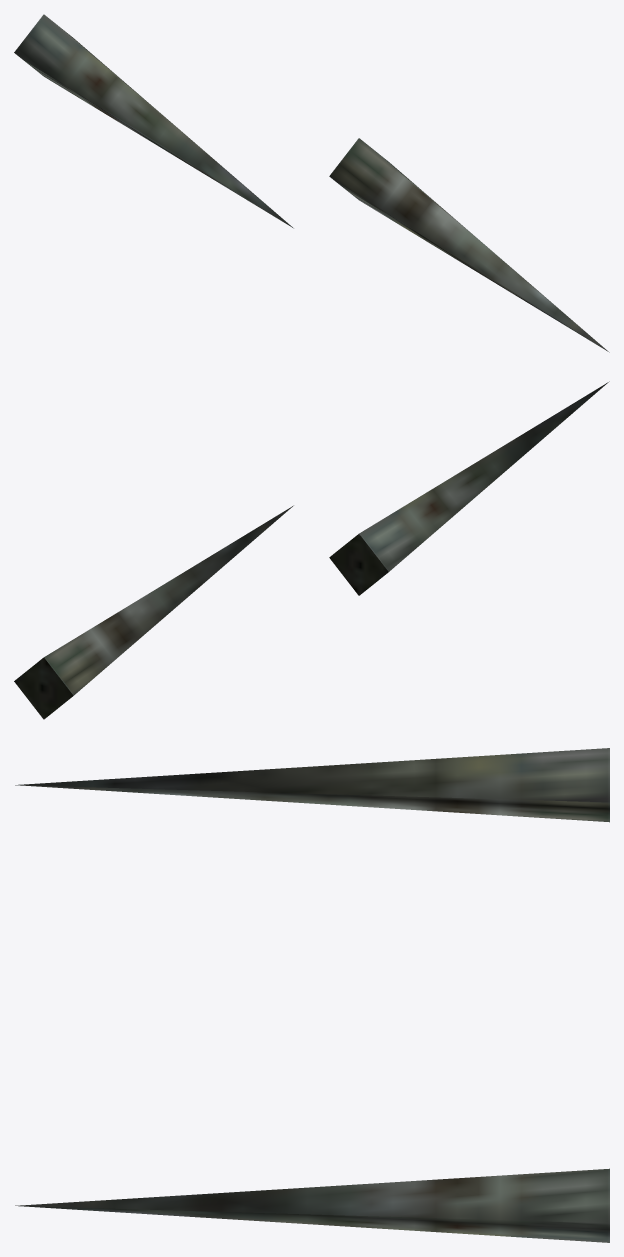
Rendered from xwing_thruster_pos_s01_l3.fbx.
3 renders of one model, top to bottom at view 1: azimuth 30°, elevation 25°; view 2: azimuth 150°, elevation 25°; view 3: azimuth 270°, elevation 25°, orthographic. The views are drawn at different scales.
Parts seen in each view (by area): view 1: mesh_node; view 2: mesh_node; view 3: mesh_node.
Boxes of the visible parts, bbox=[...] form: mesh_node: bbox=[14, 14, 609, 352]; mesh_node: bbox=[14, 381, 609, 719]; mesh_node: bbox=[15, 748, 609, 1242].
Bounding box in the file's own units: 4.15 × 2.79 × 4.82.
1 material, 1 textured.
